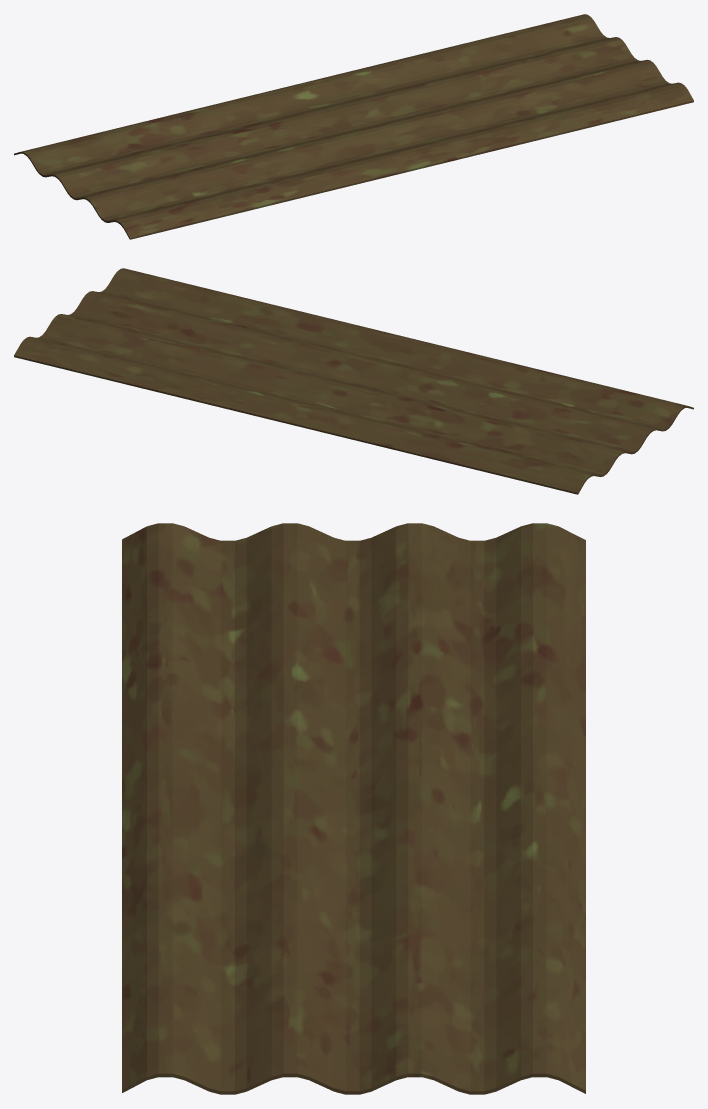
Rendered from metal scrap1.fbx.
3 views of the same model, one above another, from view 1: azimuth 30°, elevation 25°; view 2: azimuth 150°, elevation 25°; view 3: azimuth 270°, elevation 25° (orthographic). The views are drawn at different scales.
Parts seen in each view (by area): view 1: Plane.020; view 2: Plane.020; view 3: Plane.020.
Part boxes in pixels (bbox=[...]): Plane.020: bbox=[14, 14, 693, 239]; Plane.020: bbox=[14, 268, 693, 494]; Plane.020: bbox=[122, 523, 585, 1094].
Bounding box in the file's own units: 504 × 9.01 × 180.
